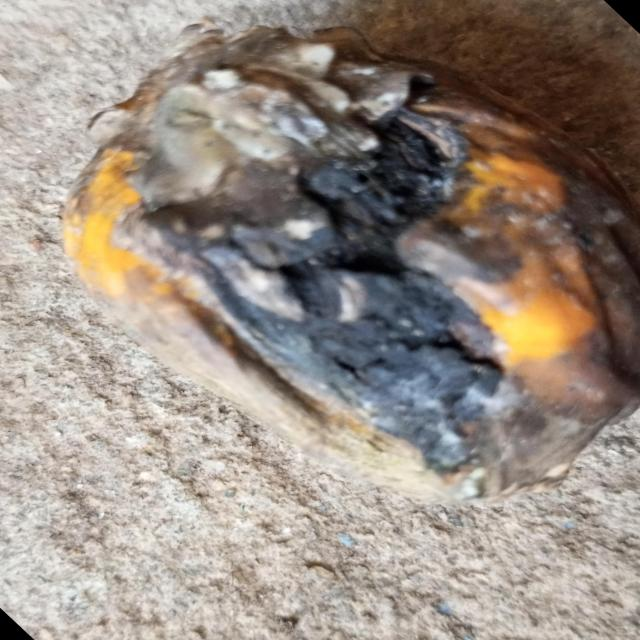damaged: (63, 25, 640, 499)
